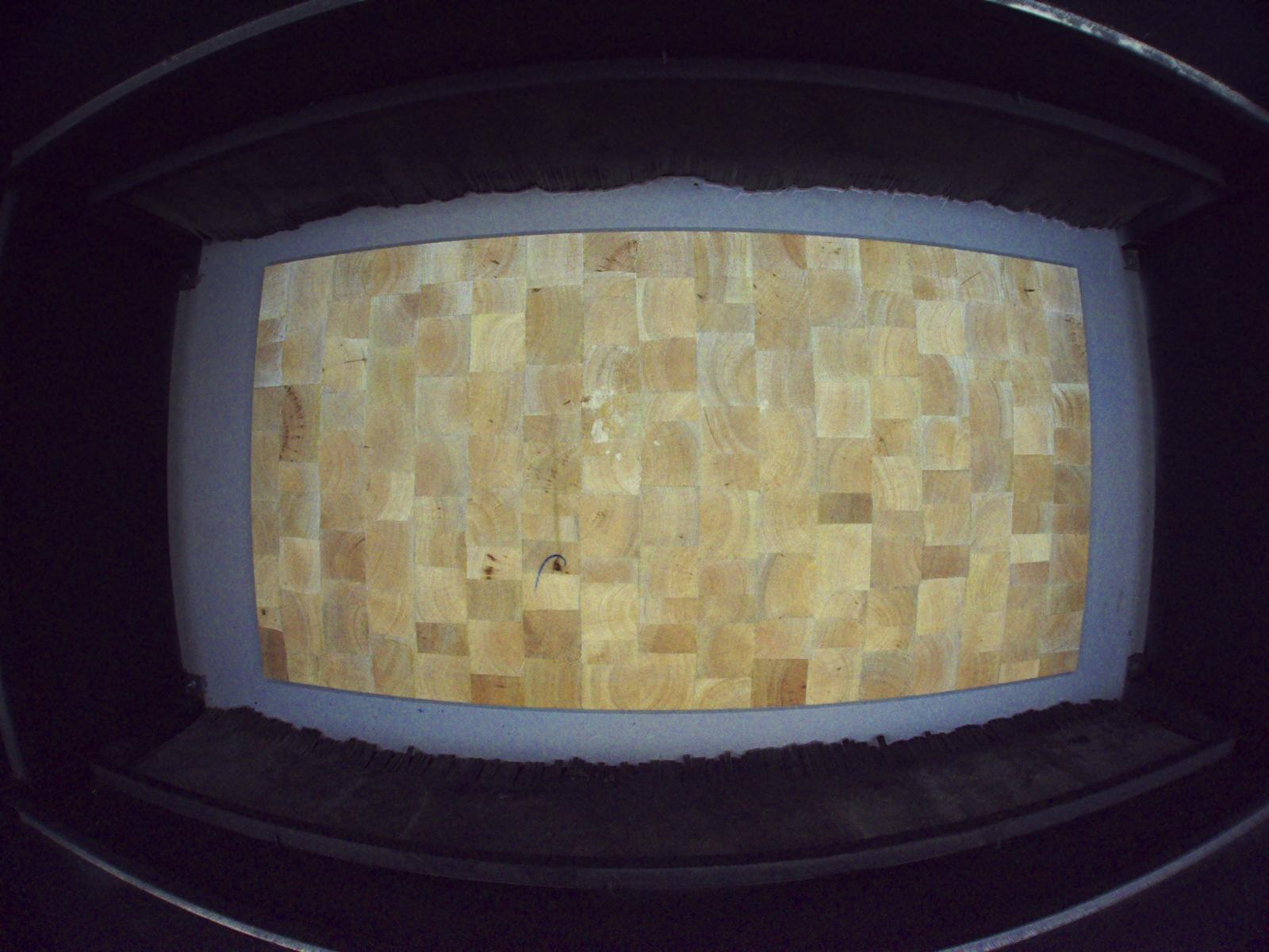nudillo: (551, 554, 571, 575)
sheck_ecuatoriano: (1021, 277, 1037, 299)
